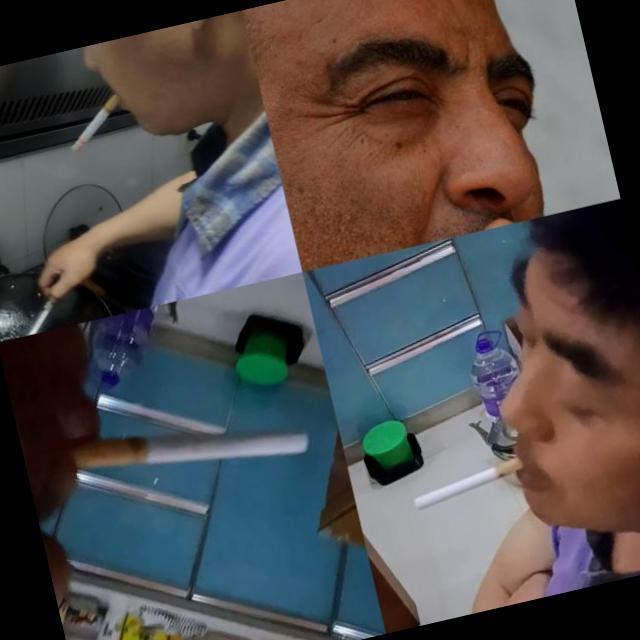cigarette: (70, 392, 312, 503), (408, 456, 528, 511), (60, 92, 132, 154)
